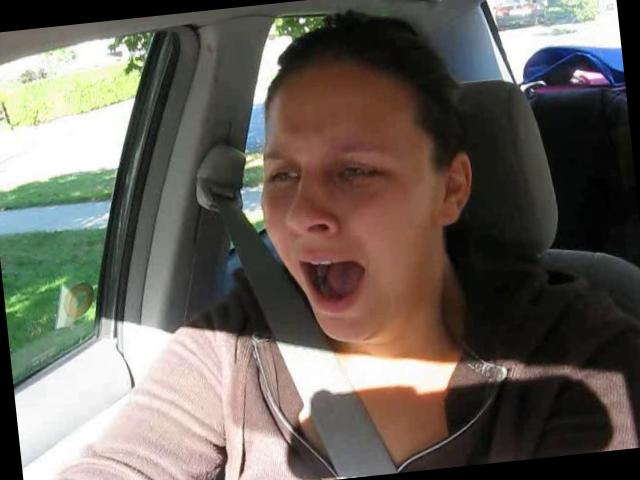eye_open: (330, 155, 393, 194), (261, 162, 302, 190)
face: (251, 121, 440, 354)
mouth_open: (292, 241, 377, 324)
